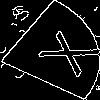X: (24, 24, 100, 78)
